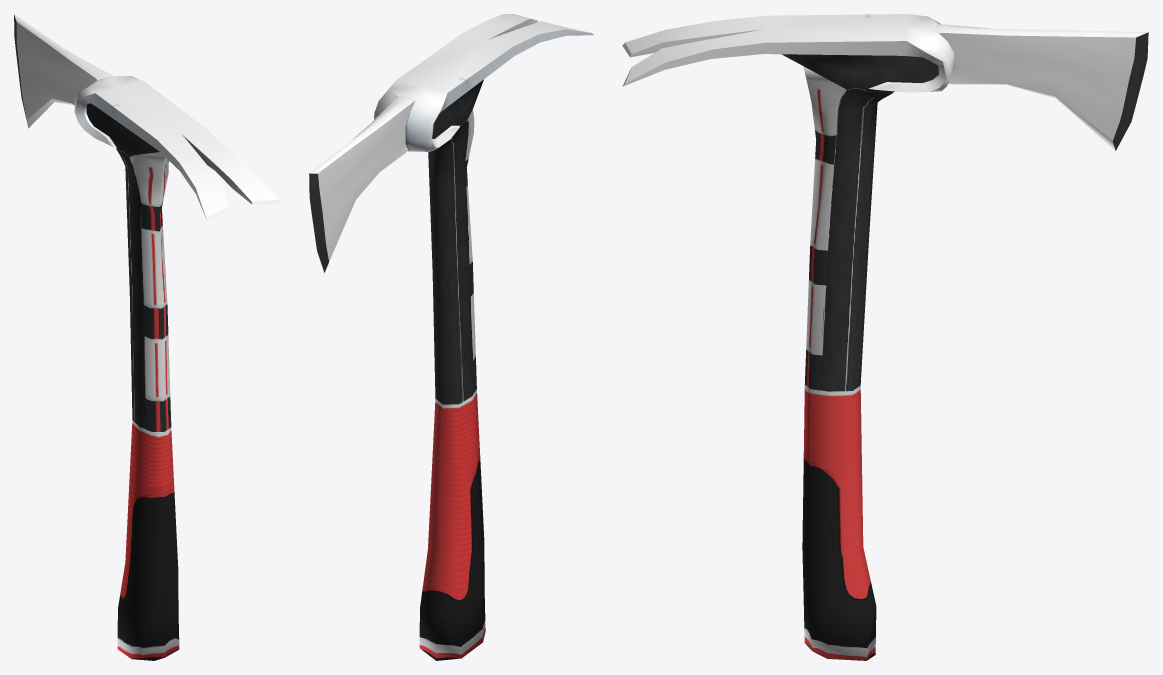
The model's file is vHatchat.fbx.
The picture shows the model from 3 angles, left to right: view 1: azimuth 30°, elevation 25°; view 2: azimuth 150°, elevation 25°; view 3: azimuth 270°, elevation 25°; orthographic projection. The views are drawn at different scales.
Parts seen in each view (by area): view 1: vHatchat; view 2: vHatchat; view 3: vHatchat.
Boxes of the visible parts, <box> form: vHatchat: <box>14,14,280,660</box>; vHatchat: <box>309,14,593,660</box>; vHatchat: <box>622,14,1148,660</box>.
Size of the model in its own units: 4.91 by 34.91 by 26.52.
1 material, 1 textured.
